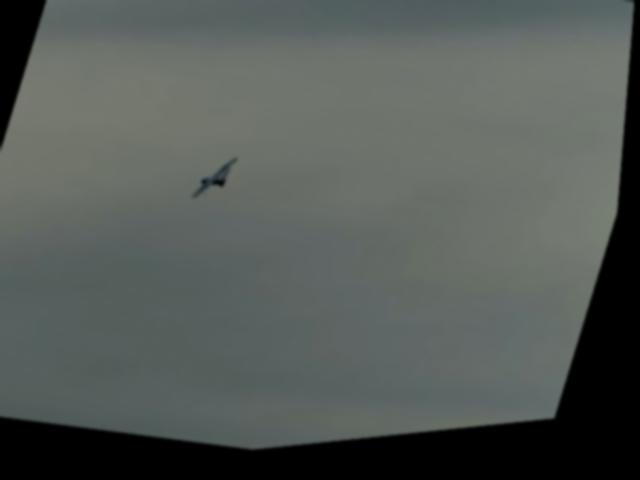uav: (184, 147, 250, 221)
